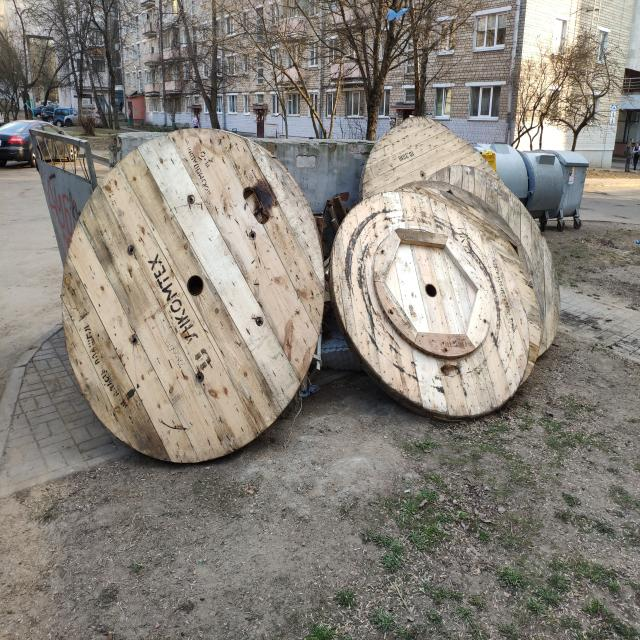entulho: (67, 129, 325, 461), (330, 187, 528, 424), (429, 163, 558, 360), (365, 115, 502, 208)
